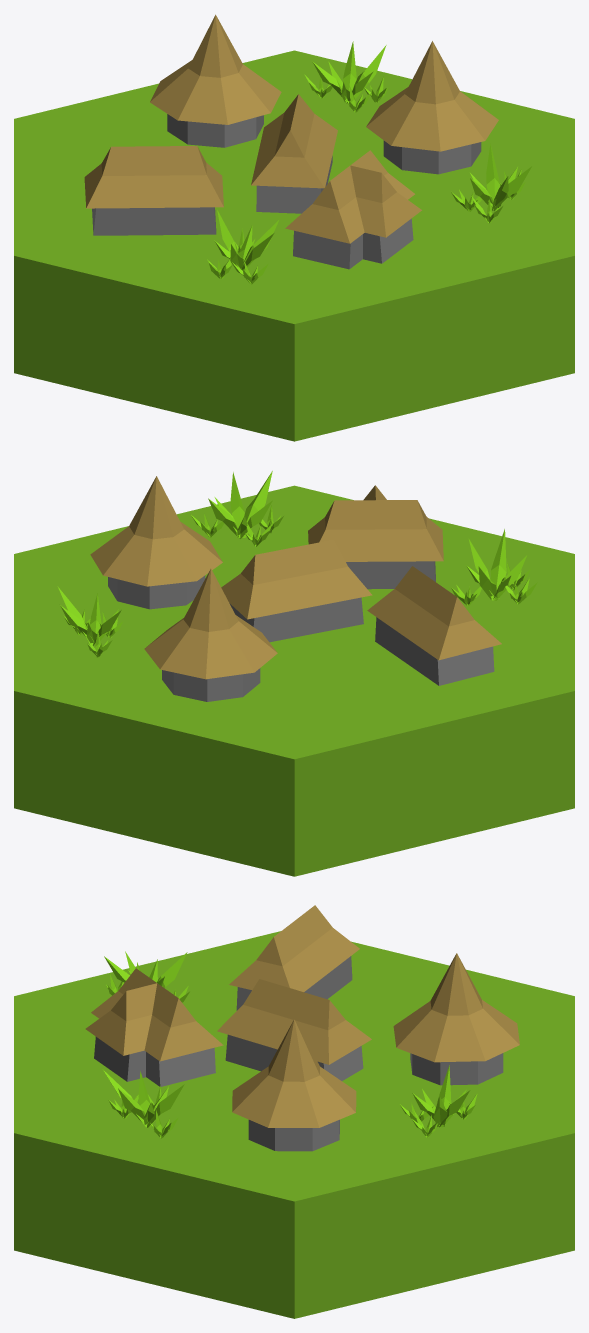
File: Casas_05.fbx
3 views of the same model, one above another, from view 1: azimuth 30°, elevation 25°; view 2: azimuth 150°, elevation 25°; view 3: azimuth 270°, elevation 25° (orthographic).
Parts seen in each view (by area): view 1: Casas_05; view 2: Casas_05; view 3: Casas_05.
Part boxes in pixels (x1,y1,x2,y2): Casas_05: (14, 14, 574, 441); Casas_05: (14, 471, 574, 876); Casas_05: (14, 905, 574, 1318).
Size of the model in its own units: 200 by 78.5 by 173.
